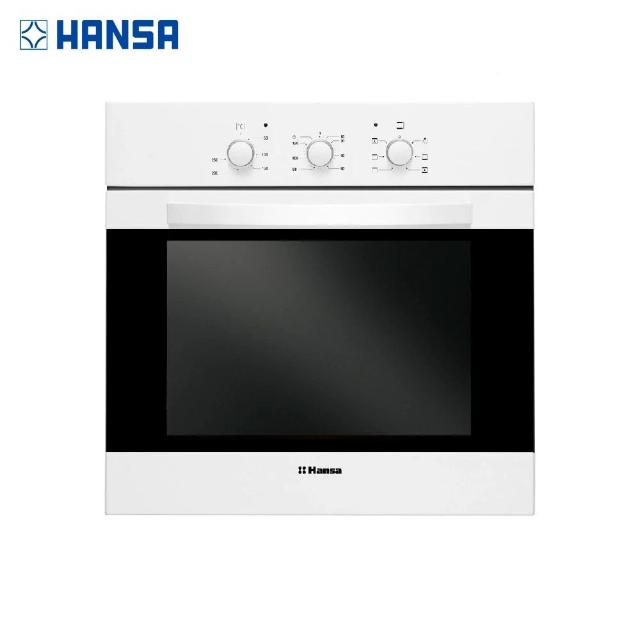Oven: (104, 101, 530, 517)
